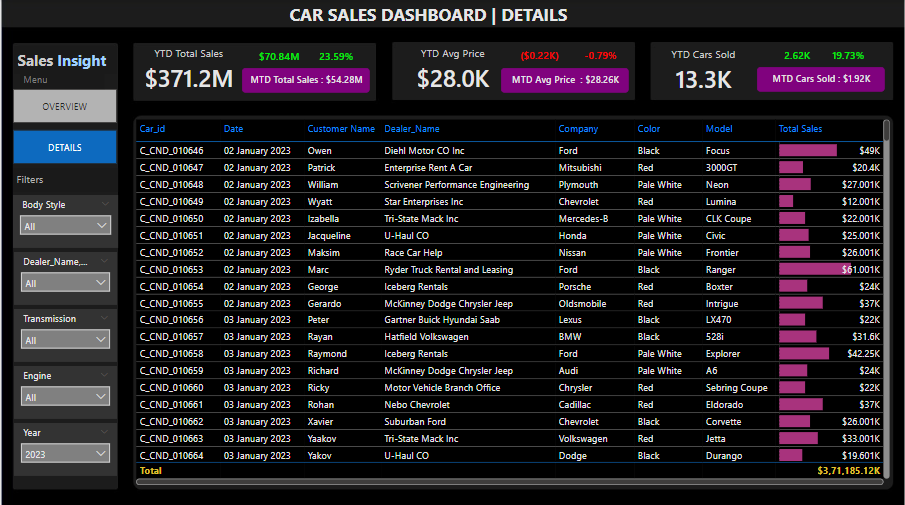

The dashboard page shown, as its layout file describes it:
{"tool":"powerbi","page":{"name":"DETAILS","canvas":[1280,720],"ordinal":1},"visuals":[{"type":"card","title":"YTD Total Sales","fields":{"Values":["car_data.YTD Total Sales"]},"box":[186.5,67.2,157.9,70.6],"z":0},{"type":"card","fields":{"Values":["car_data.Sales Difference"]},"box":[354.4,62.2,80.6,40.3],"z":1000},{"type":"card","fields":{"Values":["car_data.YOY Sales Growth"]},"box":[435.1,62.2,80.6,40.3],"z":2000},{"type":"card","fields":{"Values":["car_data.MTD KPI"]},"box":[341,97.4,181.4,35.3],"z":3000},{"type":"card","title":"YTD Avg Price","fields":{"Values":["car_data.YTD Avg Price"]},"box":[561,67.2,157.9,70.6],"z":4000},{"type":"card","fields":{"Values":["car_data.Avg Price Diff"]},"box":[722.3,60.5,80.6,40.3],"z":5000},{"type":"card","fields":{"Values":["car_data.YOY Avg Price Growth"]},"box":[809.7,60.5,80.6,40.3],"z":6000},{"type":"card","fields":{"Values":["car_data.MTD Avg Price KPI"]},"box":[708.9,97.4,181.4,35.3],"z":7000},{"type":"card","title":"YTD Cars Sold","fields":{"Values":["car_data.YTD Cars Sold"]},"box":[916.6,67.6,157,71.2],"z":8000},{"type":"card","fields":{"Values":["car_data.Cars Sold Diff"]},"box":[1088.3,60.3,80.3,40.2],"z":9000},{"type":"card","fields":{"Values":["car_data.YOY Car Sold Growth"]},"box":[1161.3,60.3,80.3,40.2],"z":10000},{"type":"card","fields":{"Values":["car_data.MTD Cars Sold KPI"]},"box":[1071.8,96.8,180.8,34.7],"z":11000},{"type":"textbox","box":[403.9,0,440.8,80.8],"z":12000},{"type":"slicer","fields":{"Values":["car_data.Body Style"]},"box":[17,277.8,148.8,75.1],"z":13000},{"type":"slicer","fields":{"Values":["car_data.Dealer_Name","car_data.Body Style"]},"box":[18.4,358.6,146,75.1],"z":14000},{"type":"slicer","fields":{"Values":["car_data.Transmission"]},"box":[18.4,439.4,146,75.1],"z":15000},{"type":"slicer","fields":{"Values":["car_data.Engine"]},"box":[18.4,520.2,146,75.1],"z":16000},{"type":"textbox","box":[17,239.5,148.8,34],"z":17000},{"type":"tableEx","fields":{"Values":["car_data.Car_id","car_data.Date","car_data.Customer Name","car_data.Dealer_Name","car_data.Company","car_data.Color","car_data.Model","car_data.Price ($)"]},"box":[186.2,166.2,1079.1,527.7],"z":18000},{"type":"pageNavigator","box":[17,127.6,147.4,106.3],"z":19000},{"type":"textbox","box":[18.4,66.6,146,39.7],"z":20000},{"type":"textbox","box":[26.9,100.6,120.5,26.9],"z":21000},{"type":"slicer","fields":{"Values":["Calendar Table.Year"]},"box":[18.4,600.9,146,75.1],"z":22000}]}

Visuals, with their boxes on the page's 1280x720 design canvas (x1, y1, x2, y2). These are canvas units, not pixel positions in the 905x505 screenshot, which may show the page scaled, cropped or inside an application window:
"YTD Total Sales" card: 186/67/344/138
card - car_data.Sales Difference: 354/62/435/102
card - car_data.YOY Sales Growth: 435/62/516/102
card - car_data.MTD KPI: 341/97/522/133
"YTD Avg Price" card: 561/67/719/138
card - car_data.Avg Price Diff: 722/60/803/101
card - car_data.YOY Avg Price Growth: 810/60/890/101
card - car_data.MTD Avg Price KPI: 709/97/890/133
"YTD Cars Sold" card: 917/68/1074/139
card - car_data.Cars Sold Diff: 1088/60/1169/100
card - car_data.YOY Car Sold Growth: 1161/60/1242/100
card - car_data.MTD Cars Sold KPI: 1072/97/1253/132
textbox: 404/0/845/81
slicer - car_data.Body Style: 17/278/166/353
slicer - car_data.Dealer_Name x car_data.Body Style: 18/359/164/434
slicer - car_data.Transmission: 18/439/164/514
slicer - car_data.Engine: 18/520/164/595
textbox: 17/240/166/274
tableEx - car_data.Car_id x car_data.Date: 186/166/1265/694
pageNavigator: 17/128/164/234
textbox: 18/67/164/106
textbox: 27/101/147/128
slicer - Calendar Table.Year: 18/601/164/676
